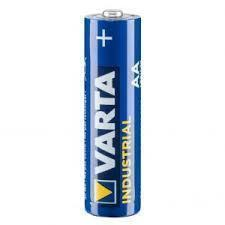AA: (82, 7, 144, 219)
